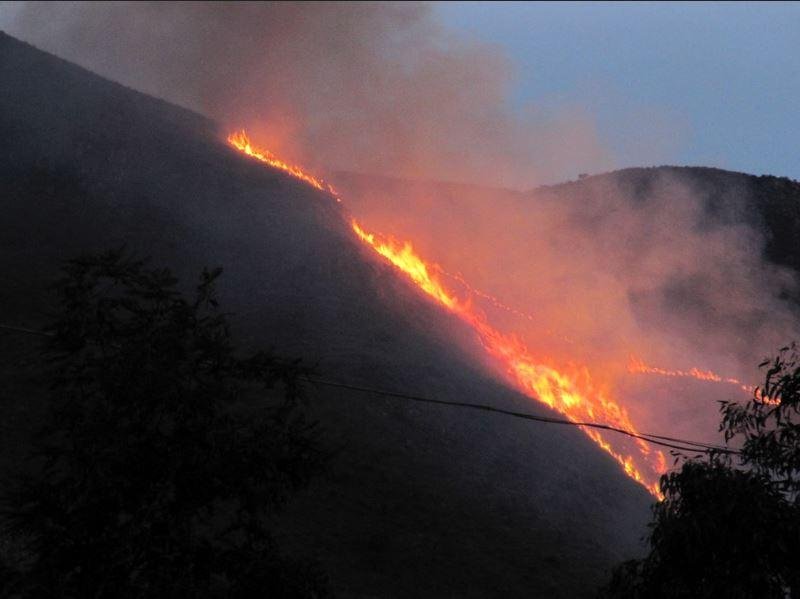fire: (223, 131, 331, 199), (501, 350, 598, 405), (362, 234, 439, 294)
smoke: (168, 0, 445, 107), (506, 230, 770, 313), (369, 124, 574, 227)
